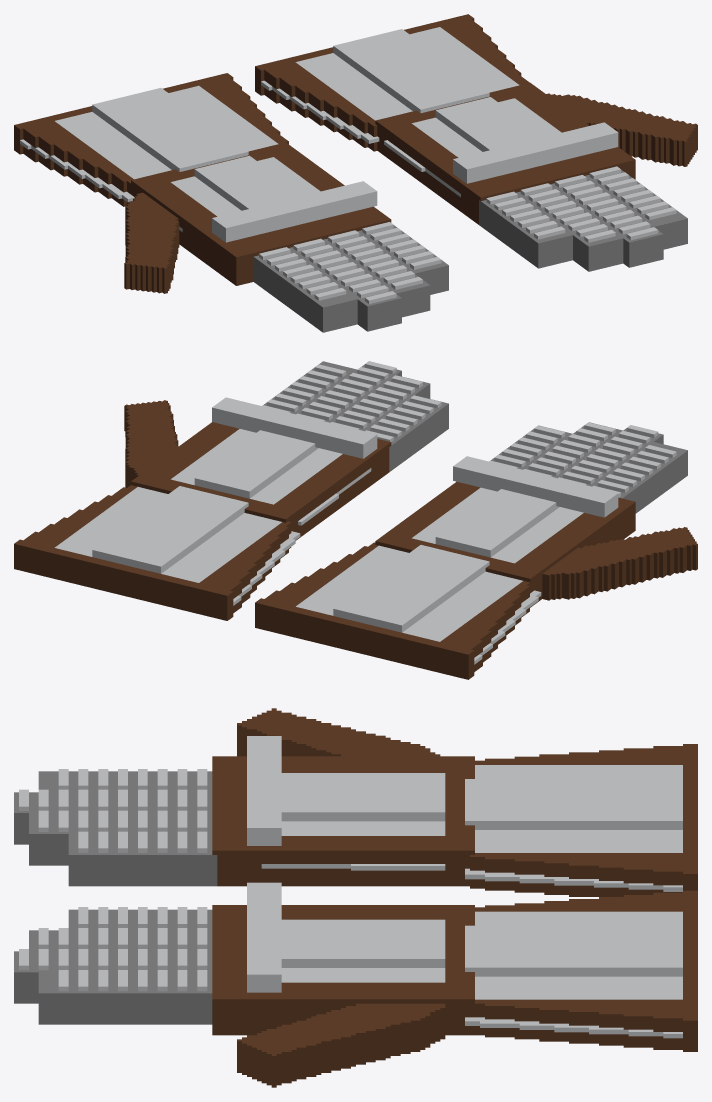
File: lc_demi_gaunt.glb
The picture shows the model from 3 angles, top to bottom: view 1: azimuth 30°, elevation 25°; view 2: azimuth 150°, elevation 25°; view 3: azimuth 270°, elevation 25°; orthographic projection. The views are drawn at different scales.
Visible parts, largest first — view 1: lc_demi_gaunt:compound; view 2: lc_demi_gaunt:compound; view 3: lc_demi_gaunt:compound.
Boxes of the visible parts, x1,y1,x2,y2 form: lc_demi_gaunt:compound: [14, 14, 697, 332]; lc_demi_gaunt:compound: [14, 361, 697, 679]; lc_demi_gaunt:compound: [14, 708, 697, 1087].
Size of the model in its own units: 0.332 by 0.026 by 0.276.
